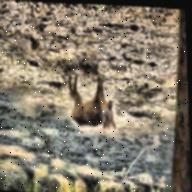boar: (63, 69, 133, 147)
